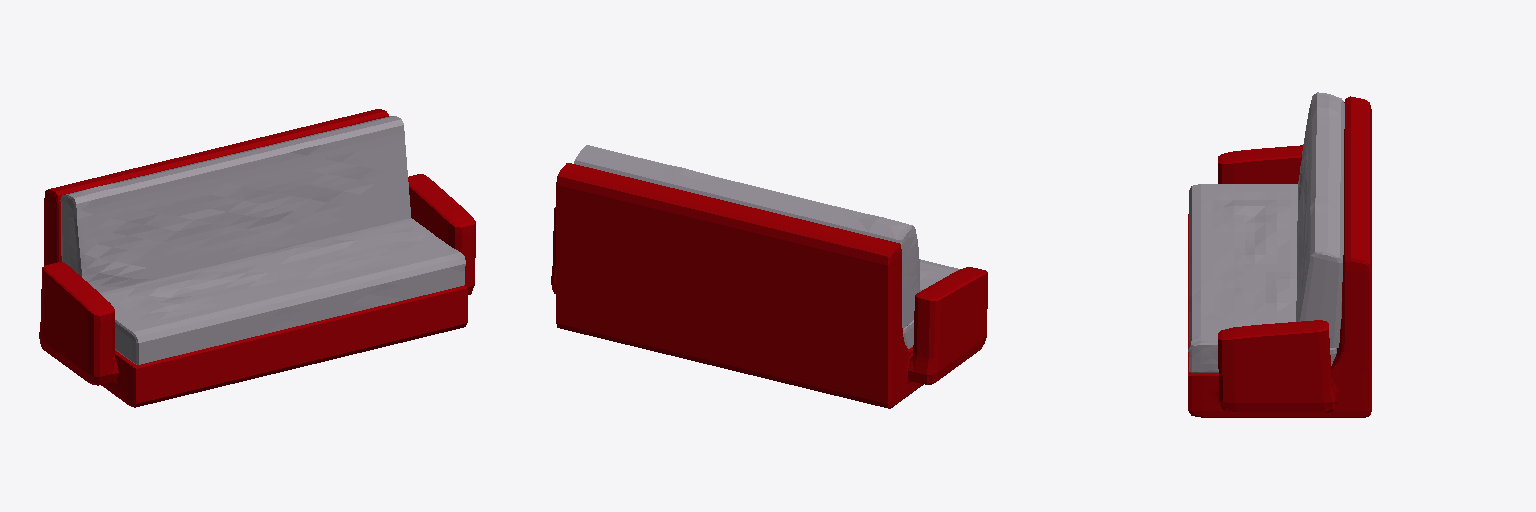
The model's file is sofa.obj.
The picture shows the model from 3 angles: view 1: azimuth 30°, elevation 25°; view 2: azimuth 150°, elevation 25°; view 3: azimuth 270°, elevation 25°; orthographic projection.
Parts seen in each view (by area): view 1: COUCH_TOP_Cube.004, COUCH_BOTTOM_Cube.002; view 2: COUCH_BOTTOM_Cube.002, COUCH_TOP_Cube.004; view 3: COUCH_TOP_Cube.004, COUCH_BOTTOM_Cube.002.
Boxes of the visible parts, x1,y1,x2,y2 form: COUCH_TOP_Cube.004: [60, 116, 465, 364]; COUCH_BOTTOM_Cube.002: [39, 109, 475, 407]; COUCH_BOTTOM_Cube.002: [551, 163, 987, 408]; COUCH_TOP_Cube.004: [574, 145, 959, 348]; COUCH_TOP_Cube.004: [1188, 92, 1344, 372]; COUCH_BOTTOM_Cube.002: [1188, 96, 1371, 417].
Size of the model in its own units: 2.16 by 0.9111 by 0.897.